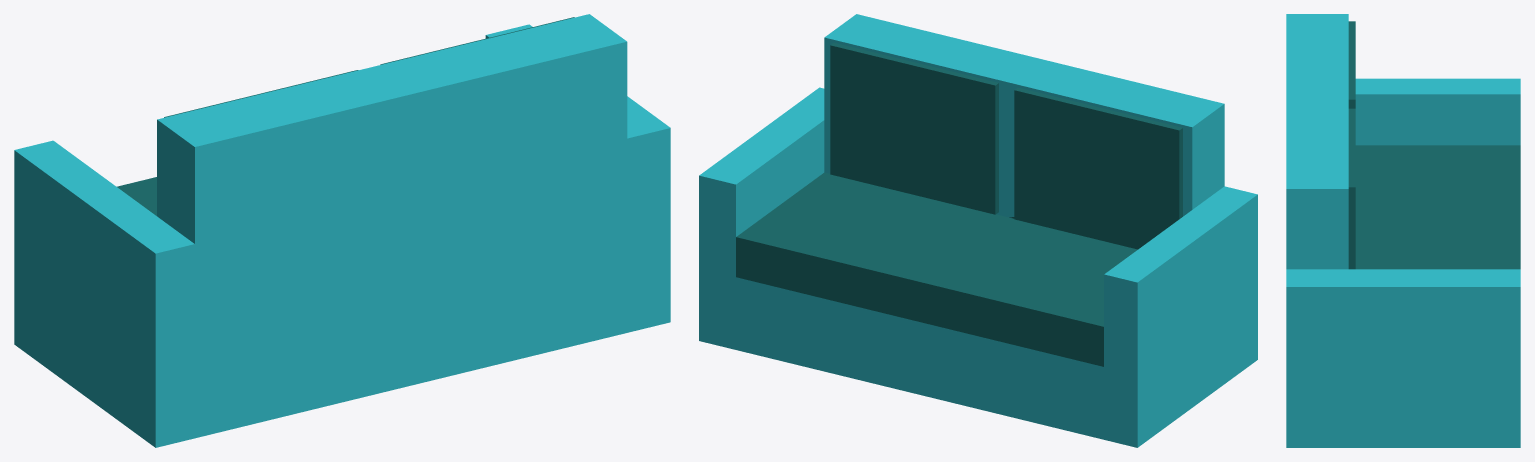
The model's file is couch.fbx.
The picture shows the model from 3 angles, left to right: view 1: azimuth 30°, elevation 25°; view 2: azimuth 150°, elevation 25°; view 3: azimuth 270°, elevation 25°; orthographic projection. The views are drawn at different scales.
Visible parts, largest first — view 1: Couch; view 2: Couch; view 3: Couch.
Part boxes in pixels (x1,y1,x2,y2): Couch: (14, 14, 670, 447); Couch: (699, 14, 1257, 447); Couch: (1286, 14, 1520, 447).
Size of the model in its own units: 902 by 487 by 429.
